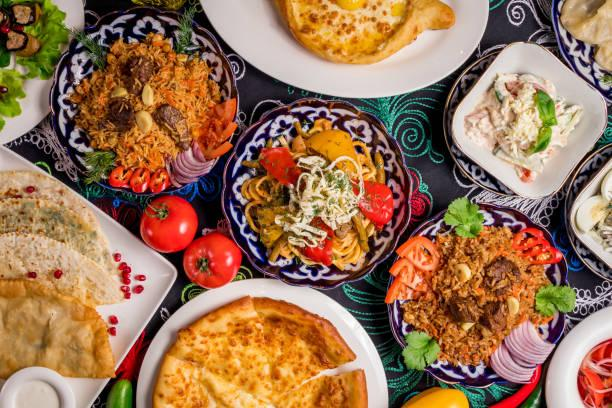Braised Crucian Carp: (50, 7, 240, 198), (224, 101, 414, 292), (387, 202, 570, 388), (136, 280, 391, 408), (441, 42, 605, 200)
